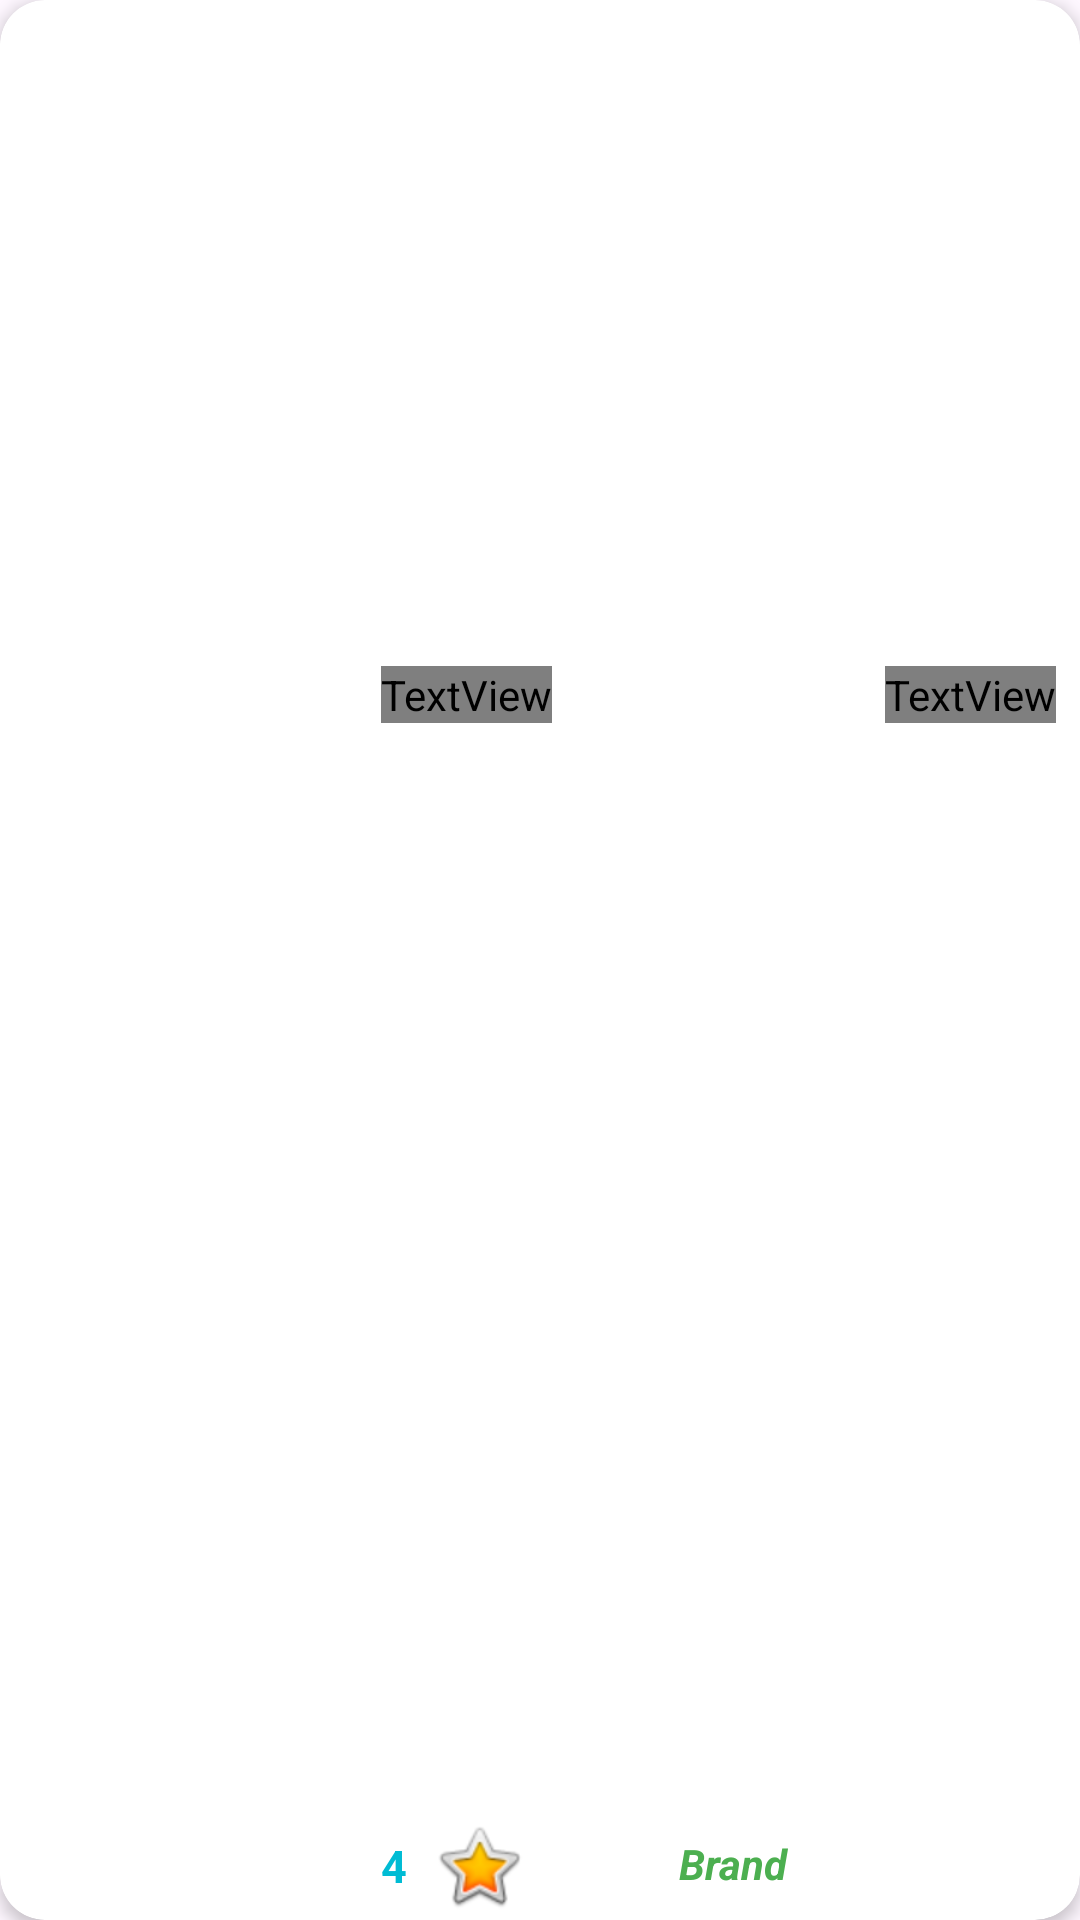

Icon click points for this 1080px x 1920px phone screenshot, format point (x, y):
star on: point (480, 1867)
